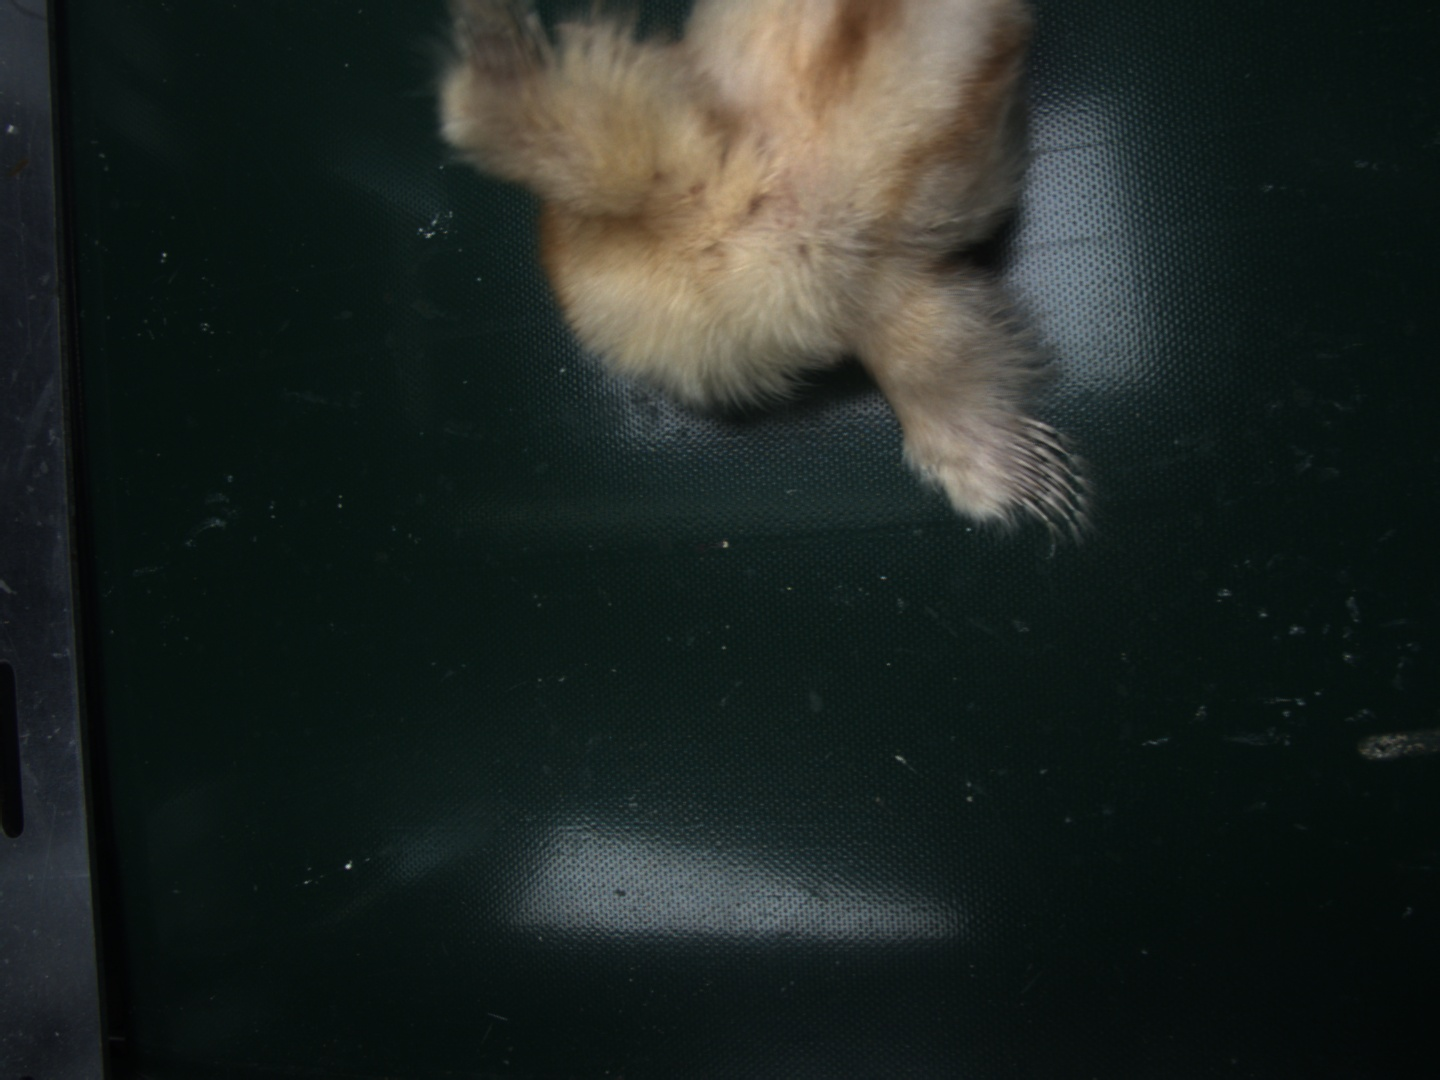female: (1001, 417, 1077, 535)
